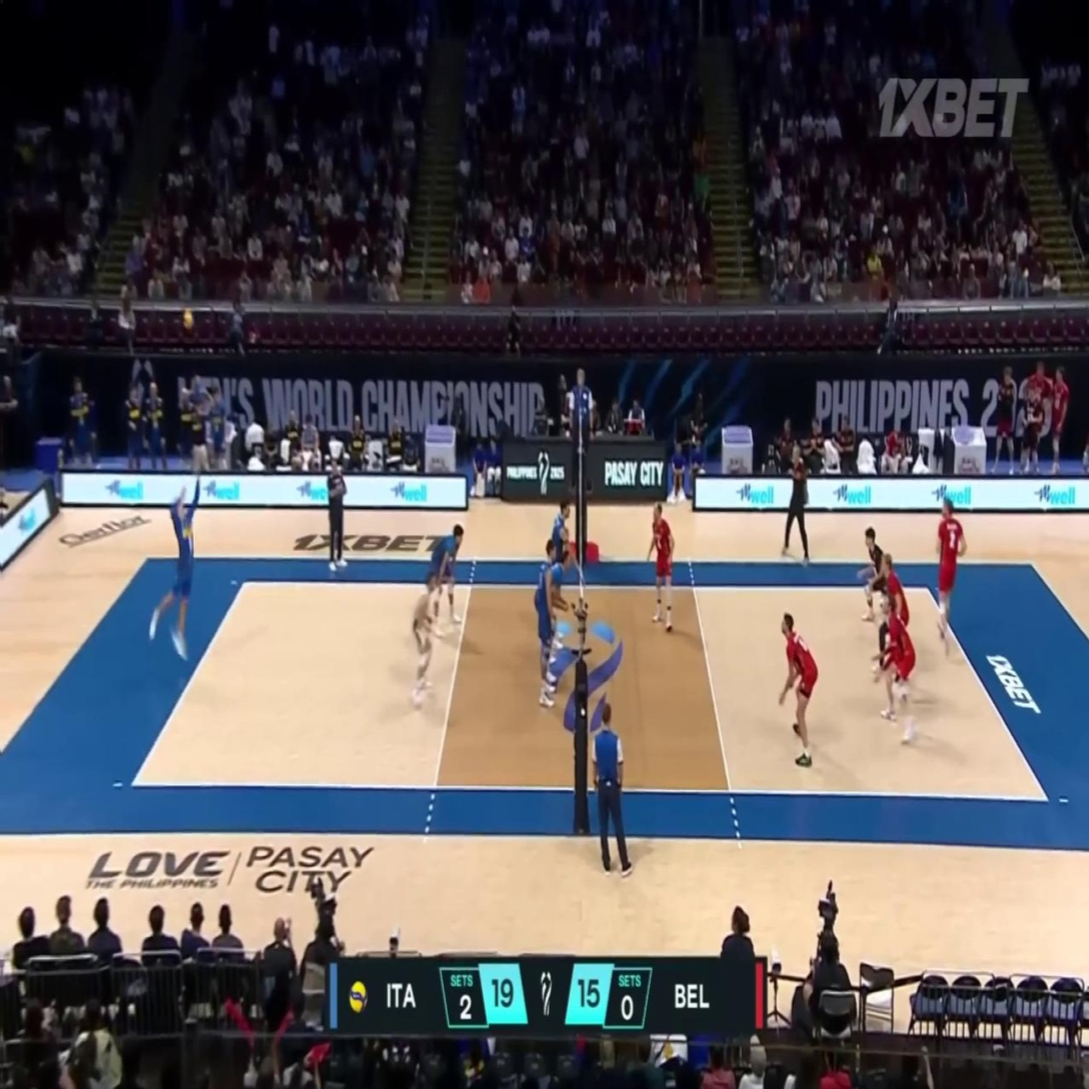ball: (182, 308, 193, 330)
